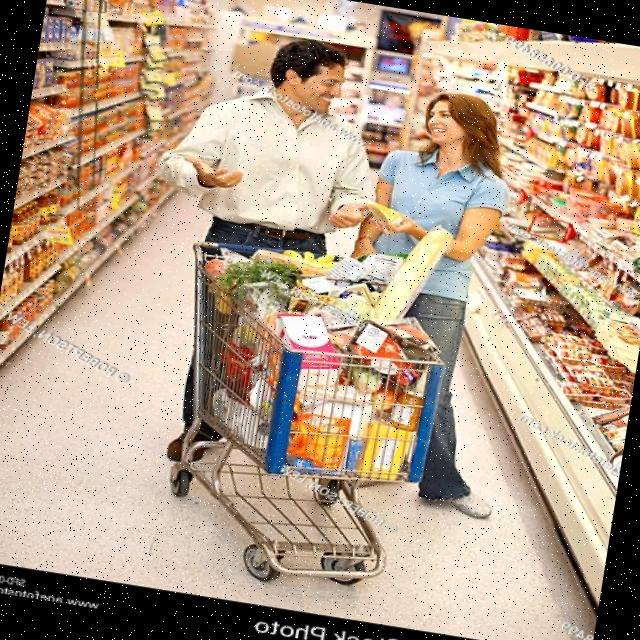Person: (112, 21, 389, 483), (317, 80, 555, 514)
